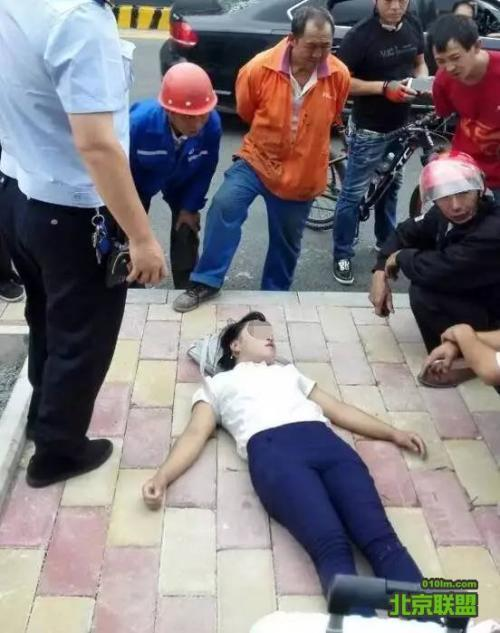Fall-Detected: (136, 300, 469, 618)
